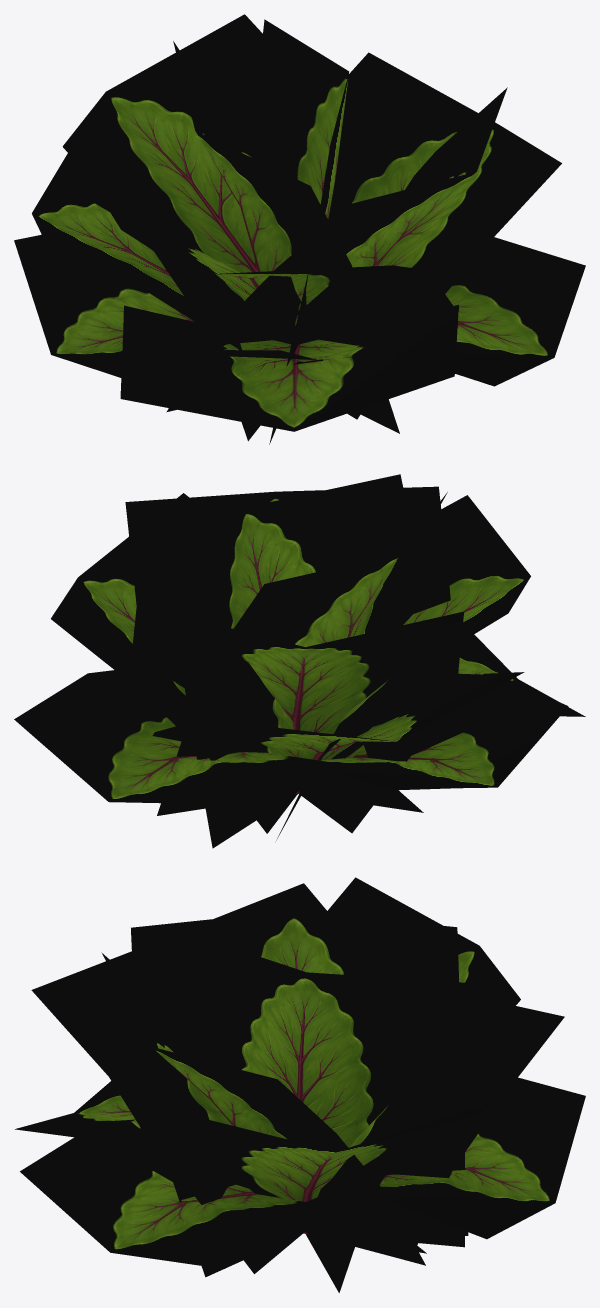
Rendered from BeetPlant03.fbx.
3 renders of one model, top to bottom at view 1: azimuth 30°, elevation 25°; view 2: azimuth 150°, elevation 25°; view 3: azimuth 270°, elevation 25°, orthographic. The views are drawn at different scales.
Visible parts, largest first — view 1: BeetPlant03_LOD0; view 2: BeetPlant03_LOD0; view 3: BeetPlant03_LOD0.
Part boxes in pixels (<box>): BeetPlant03_LOD0: <box>14,14,585,444</box>; BeetPlant03_LOD0: <box>14,474,585,848</box>; BeetPlant03_LOD0: <box>15,877,585,1292</box>.
Size of what is drawn, in the model's own units: 0.7393 by 0.4282 by 0.7612.
